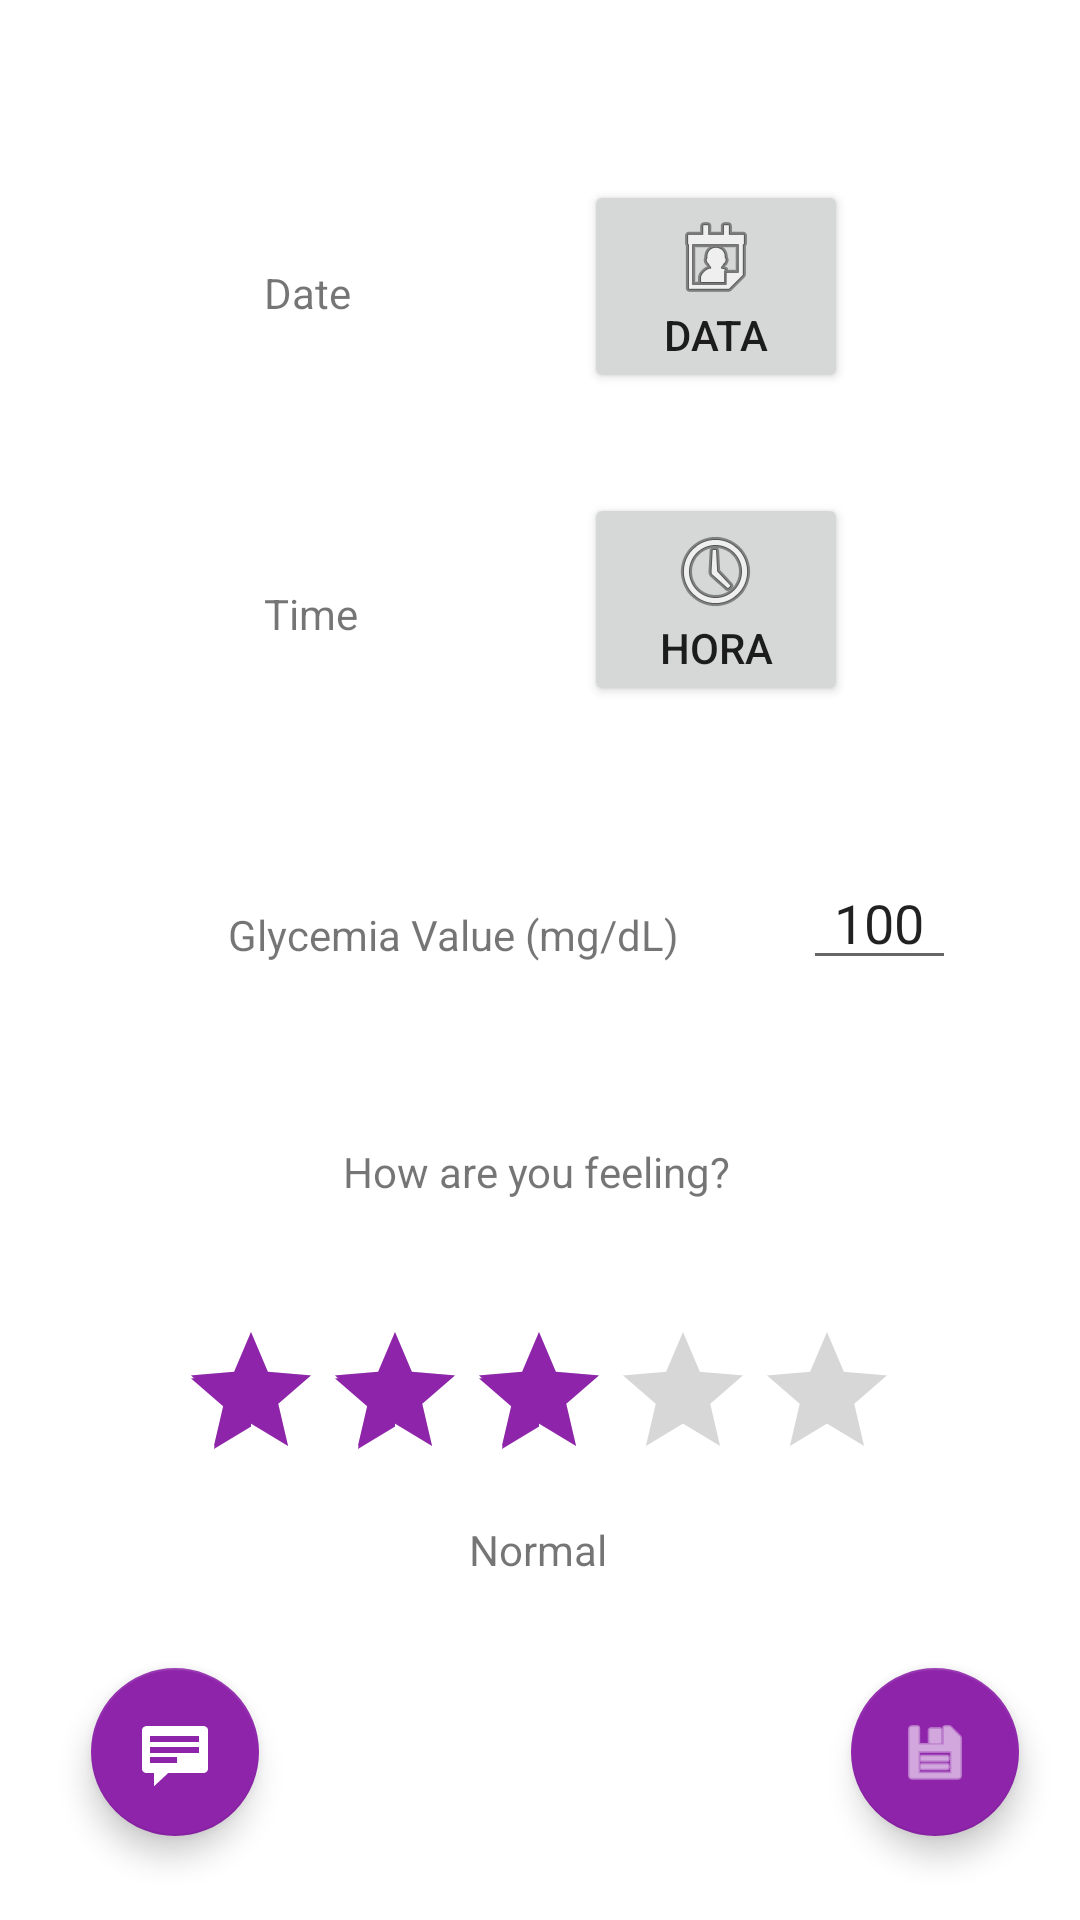

Point at icon controls on the screen. Image size 1080x1920, points as point (x, y).
chat: point (175, 1752)
save: point (935, 1752)
